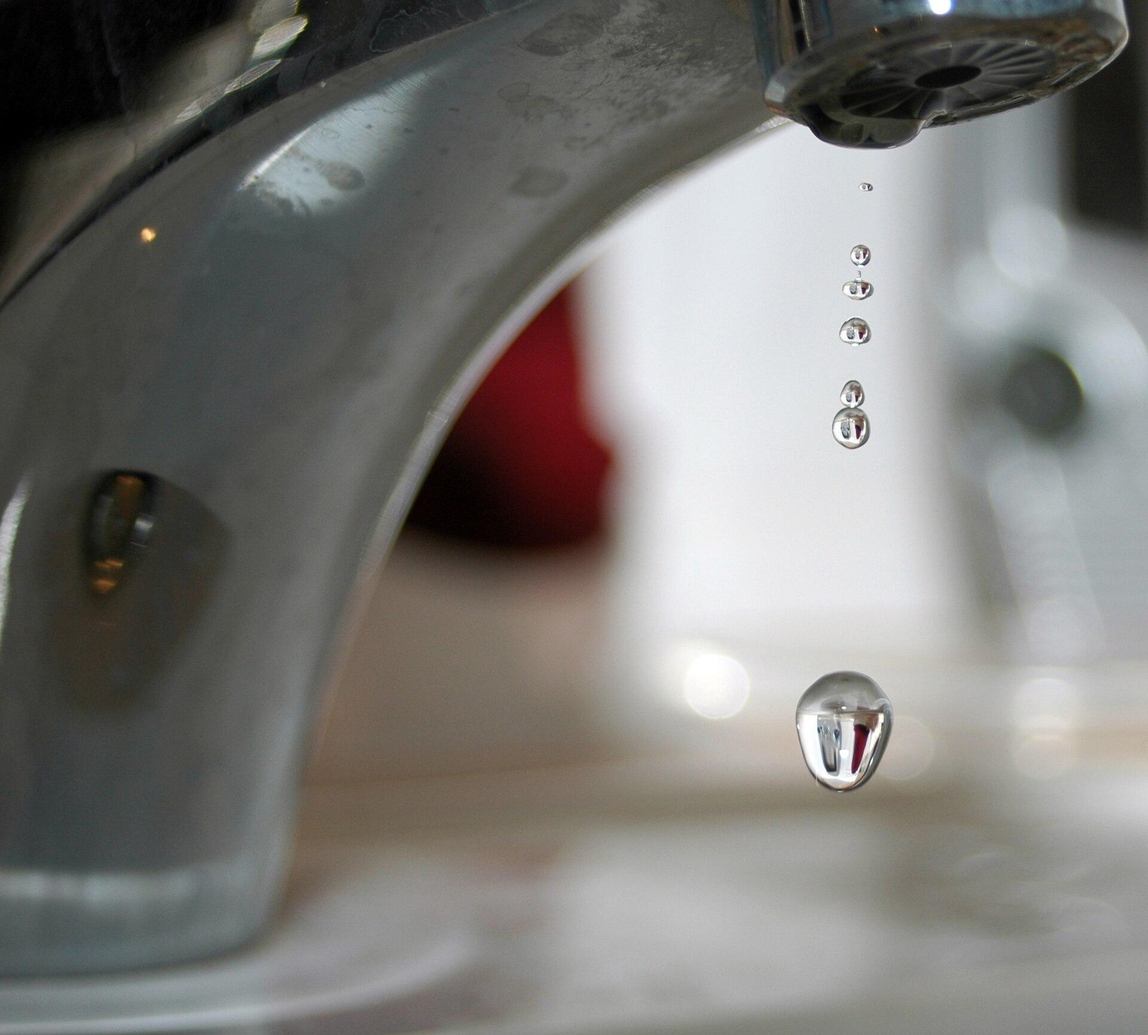water drop: (792, 668, 895, 797), (800, 82, 944, 149), (833, 375, 872, 445), (839, 315, 871, 347), (845, 277, 873, 302), (851, 242, 872, 268), (854, 179, 880, 194)
